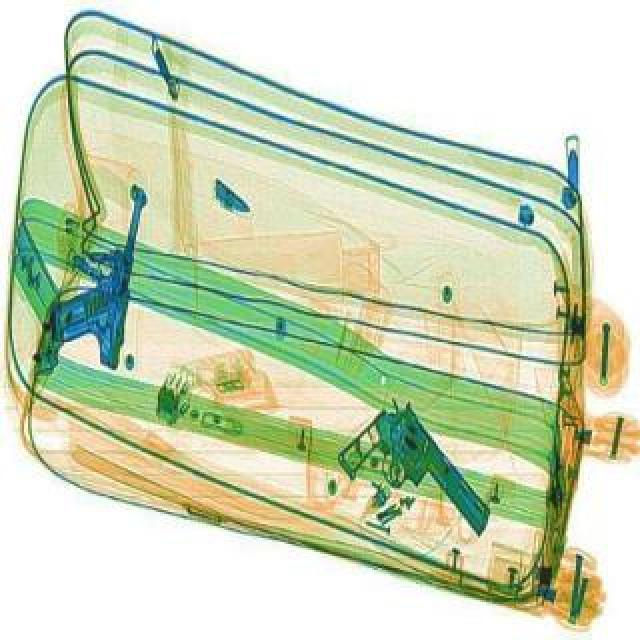gun: (322, 390, 506, 570), (44, 172, 152, 368)
